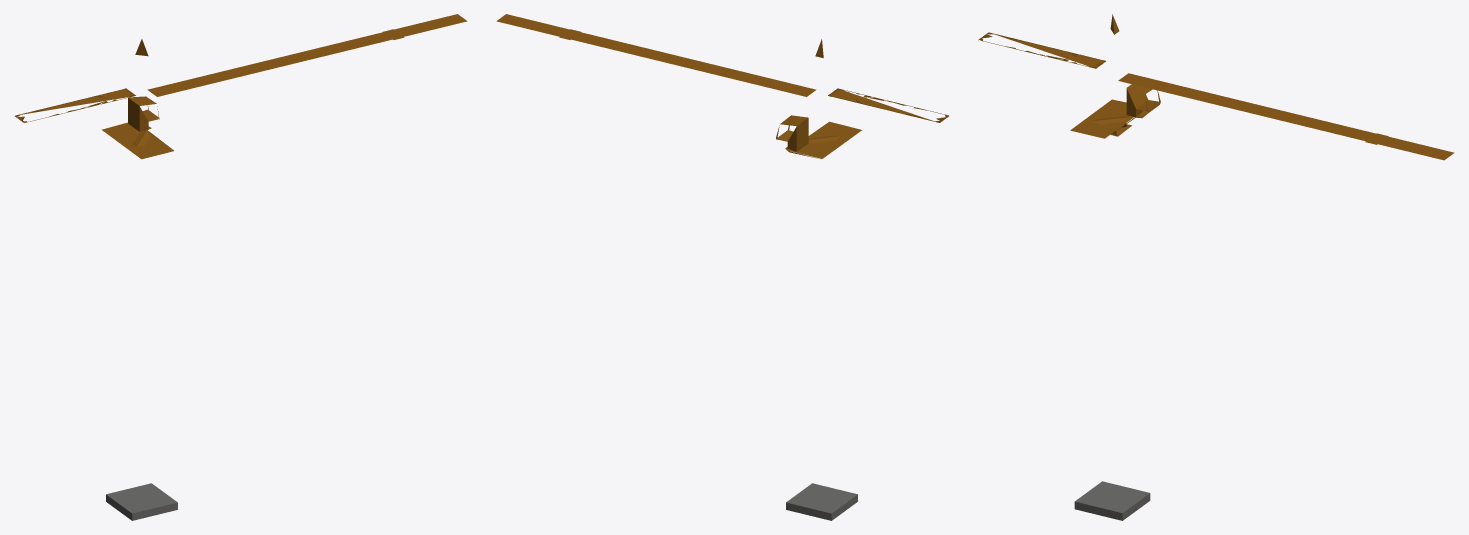
Rendered from tower-crane.zfix-v3.lod2.glb.
3 views of the same model, side by side, from view 1: azimuth 30°, elevation 25°; view 2: azimuth 150°, elevation 25°; view 3: azimuth 330°, elevation 25° (orthographic). The views are drawn at different scales.
Visible parts, largest first — view 1: Cube.052_UV_0; view 2: Cube.052_UV_0; view 3: Cube.052_UV_0.
Boxes of the visible parts, bbox=[...] form: Cube.052_UV_0: bbox=[15, 14, 467, 520]; Cube.052_UV_0: bbox=[496, 14, 948, 520]; Cube.052_UV_0: bbox=[978, 14, 1454, 520].
Bounding box in the file's own units: 47.68 × 48 × 7.62.
